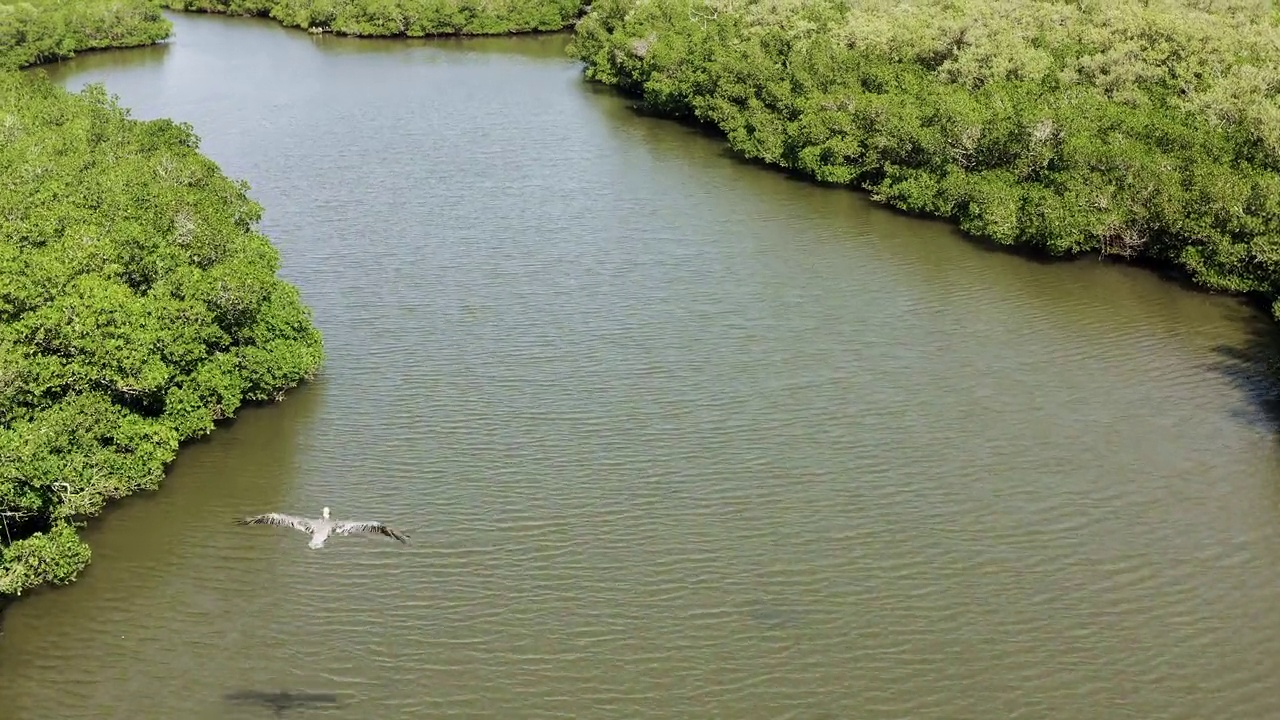bird: (235, 506, 408, 550)
